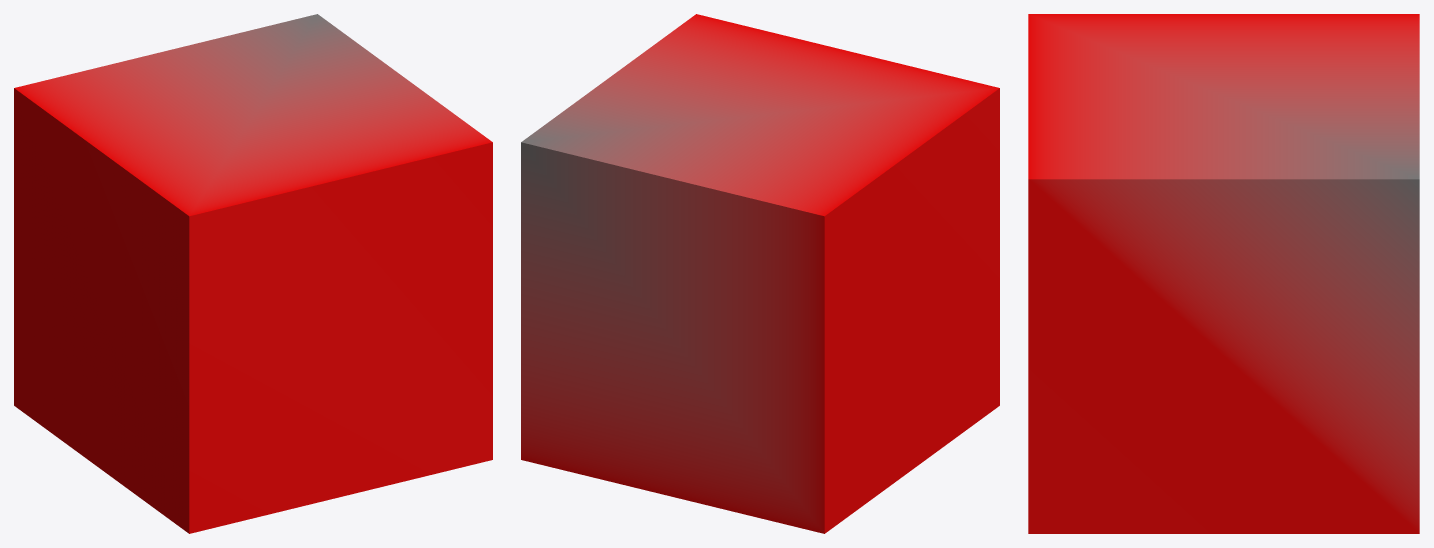
Rendered from cube-colored.gltf.
3 renders of one model, left to right at view 1: azimuth 30°, elevation 25°; view 2: azimuth 150°, elevation 25°; view 3: azimuth 270°, elevation 25°, orthographic. The views are drawn at different scales.
Parts seen in each view (by area): view 1: Cube; view 2: Cube; view 3: Cube.
Boxes of the visible parts, box(x1,y1,x2,y2) form: Cube: box(14, 14, 492, 533); Cube: box(521, 14, 999, 533); Cube: box(1028, 14, 1419, 533).
Size of the model in its own units: 2 by 2 by 2.
2 materials, 2 textured.
